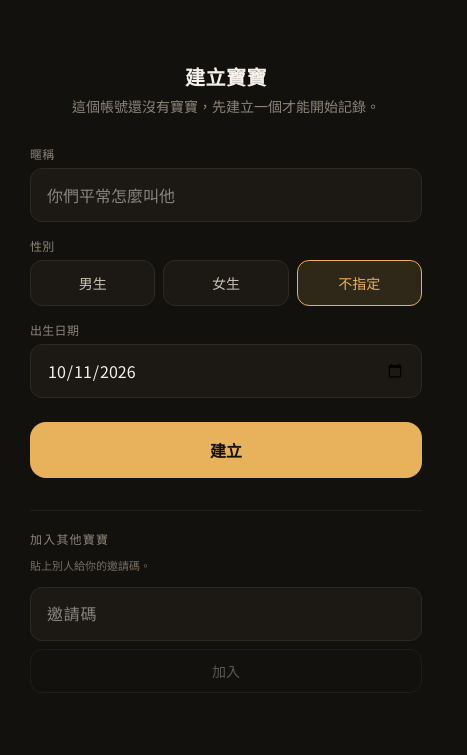
an account with no baby yet › does not make a second one when the refresh afterwards fails
In the field labelled "暱稱": (226, 195) [30,168,422,222], type "小葉"
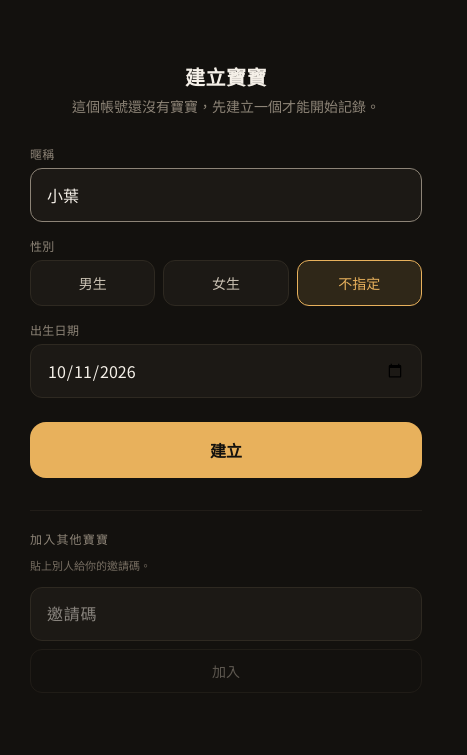
Click the button with test id "submit": (226, 450) [30,422,422,478]
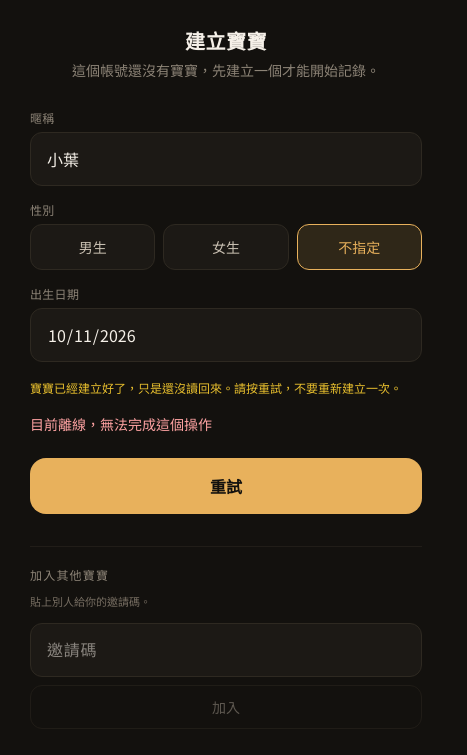
Expected: the field labelled "暱稱" is disabled, [30,132,422,186]
Result: the text "寶寶已經建立好了，只是還沒讀回來。請按重試，不要重新建立一次。" is shown at [30,378,422,398]
Click the button with test id "submit": (226, 486) [30,458,422,514]
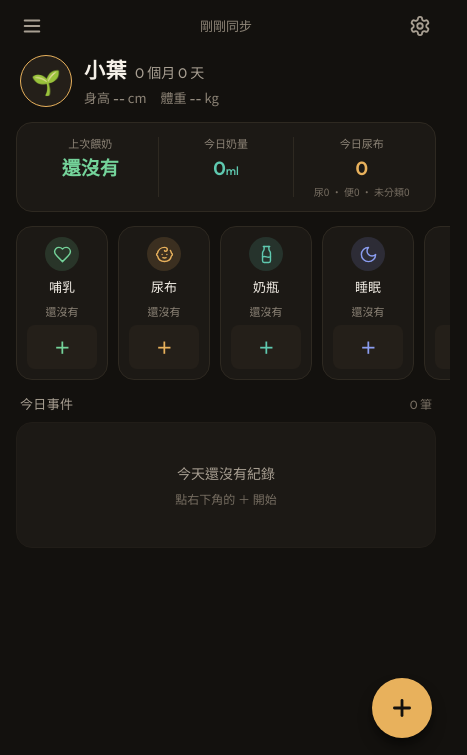
Result: the text "上次餵奶" is shown at [68,135,112,152]
